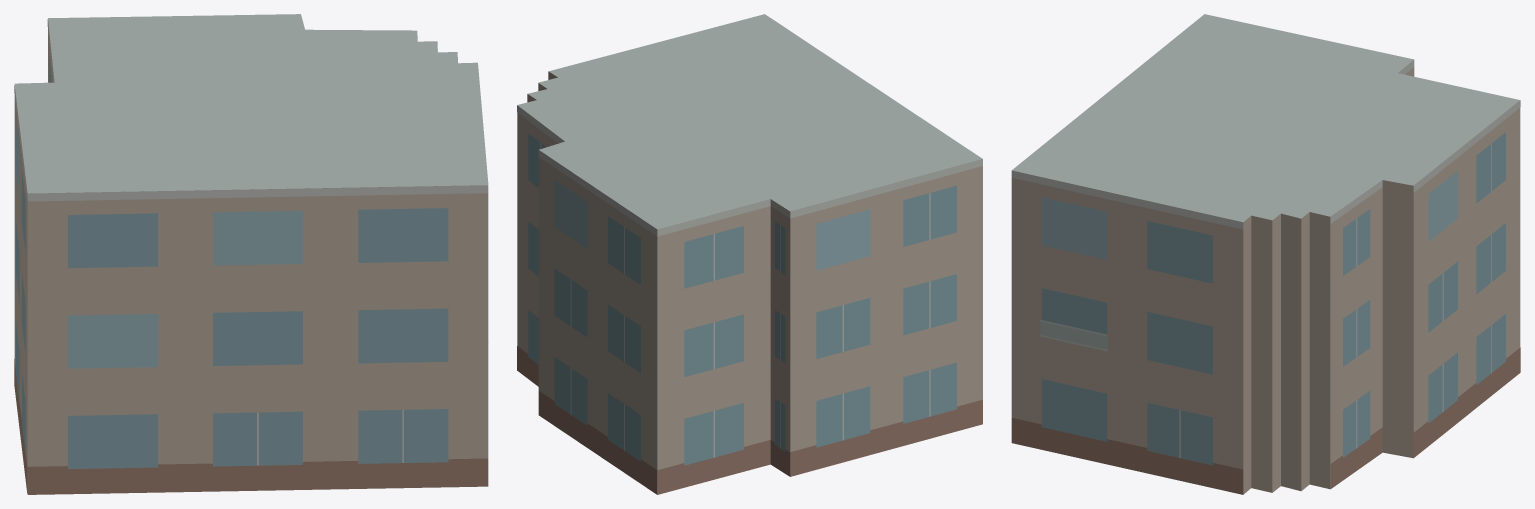
The model's file is survey-upis-32617407.glb.
The picture shows the model from 3 angles, left to right: view 1: azimuth 30°, elevation 25°; view 2: azimuth 150°, elevation 25°; view 3: azimuth 270°, elevation 25°; orthographic projection. The views are drawn at different scales.
Visible parts, largest first — view 1: survey-upis-32617407.tmp; view 2: survey-upis-32617407.tmp; view 3: survey-upis-32617407.tmp.
Part boxes in pixels (bbox=[...]): survey-upis-32617407.tmp: bbox=[14, 14, 488, 494]; survey-upis-32617407.tmp: bbox=[517, 14, 982, 494]; survey-upis-32617407.tmp: bbox=[1011, 14, 1520, 494].
Size of the model in its own units: 15 by 9.15 by 15.49.
